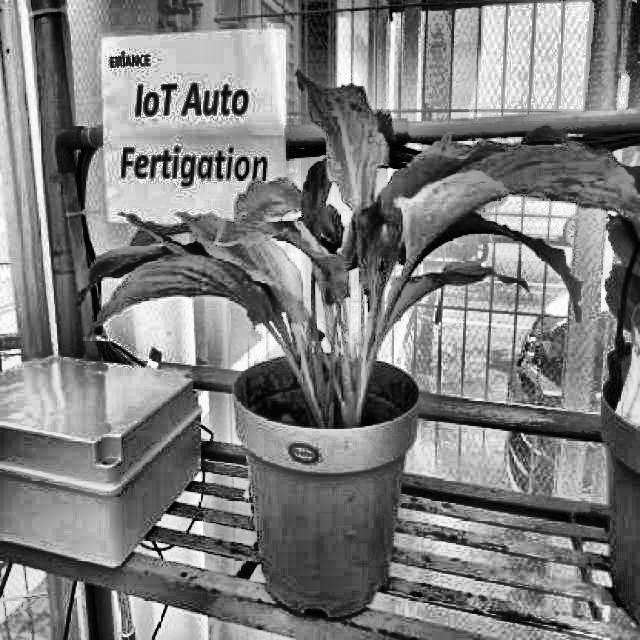plants: (77, 71, 640, 432)
